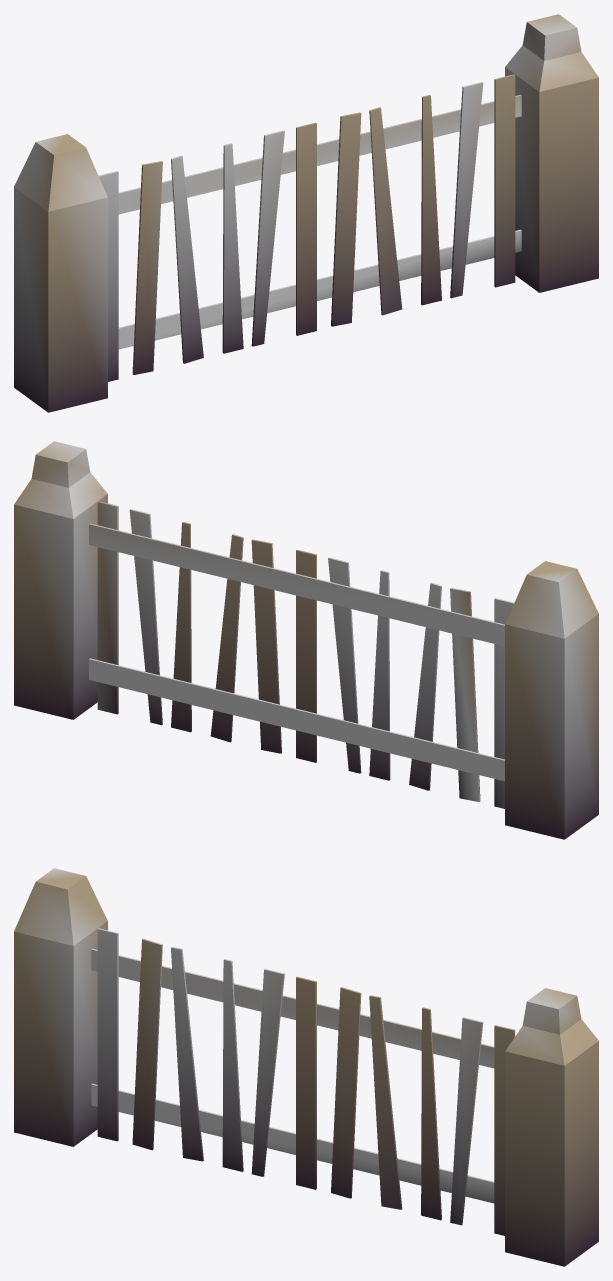
The model's file is French_1.fbx.
3 renders of one model, top to bottom at view 1: azimuth 30°, elevation 25°; view 2: azimuth 150°, elevation 25°; view 3: azimuth 330°, elevation 25°, orthographic.
Visible parts, largest first — view 1: Fence1; view 2: Fence1; view 3: Fence1.
Part boxes in pixels (x1,y1,x2,y2): Fence1: (14, 14, 598, 412); Fence1: (14, 441, 598, 839); Fence1: (14, 868, 598, 1266).
Size of the model in its own units: 278 by 120 by 30.
